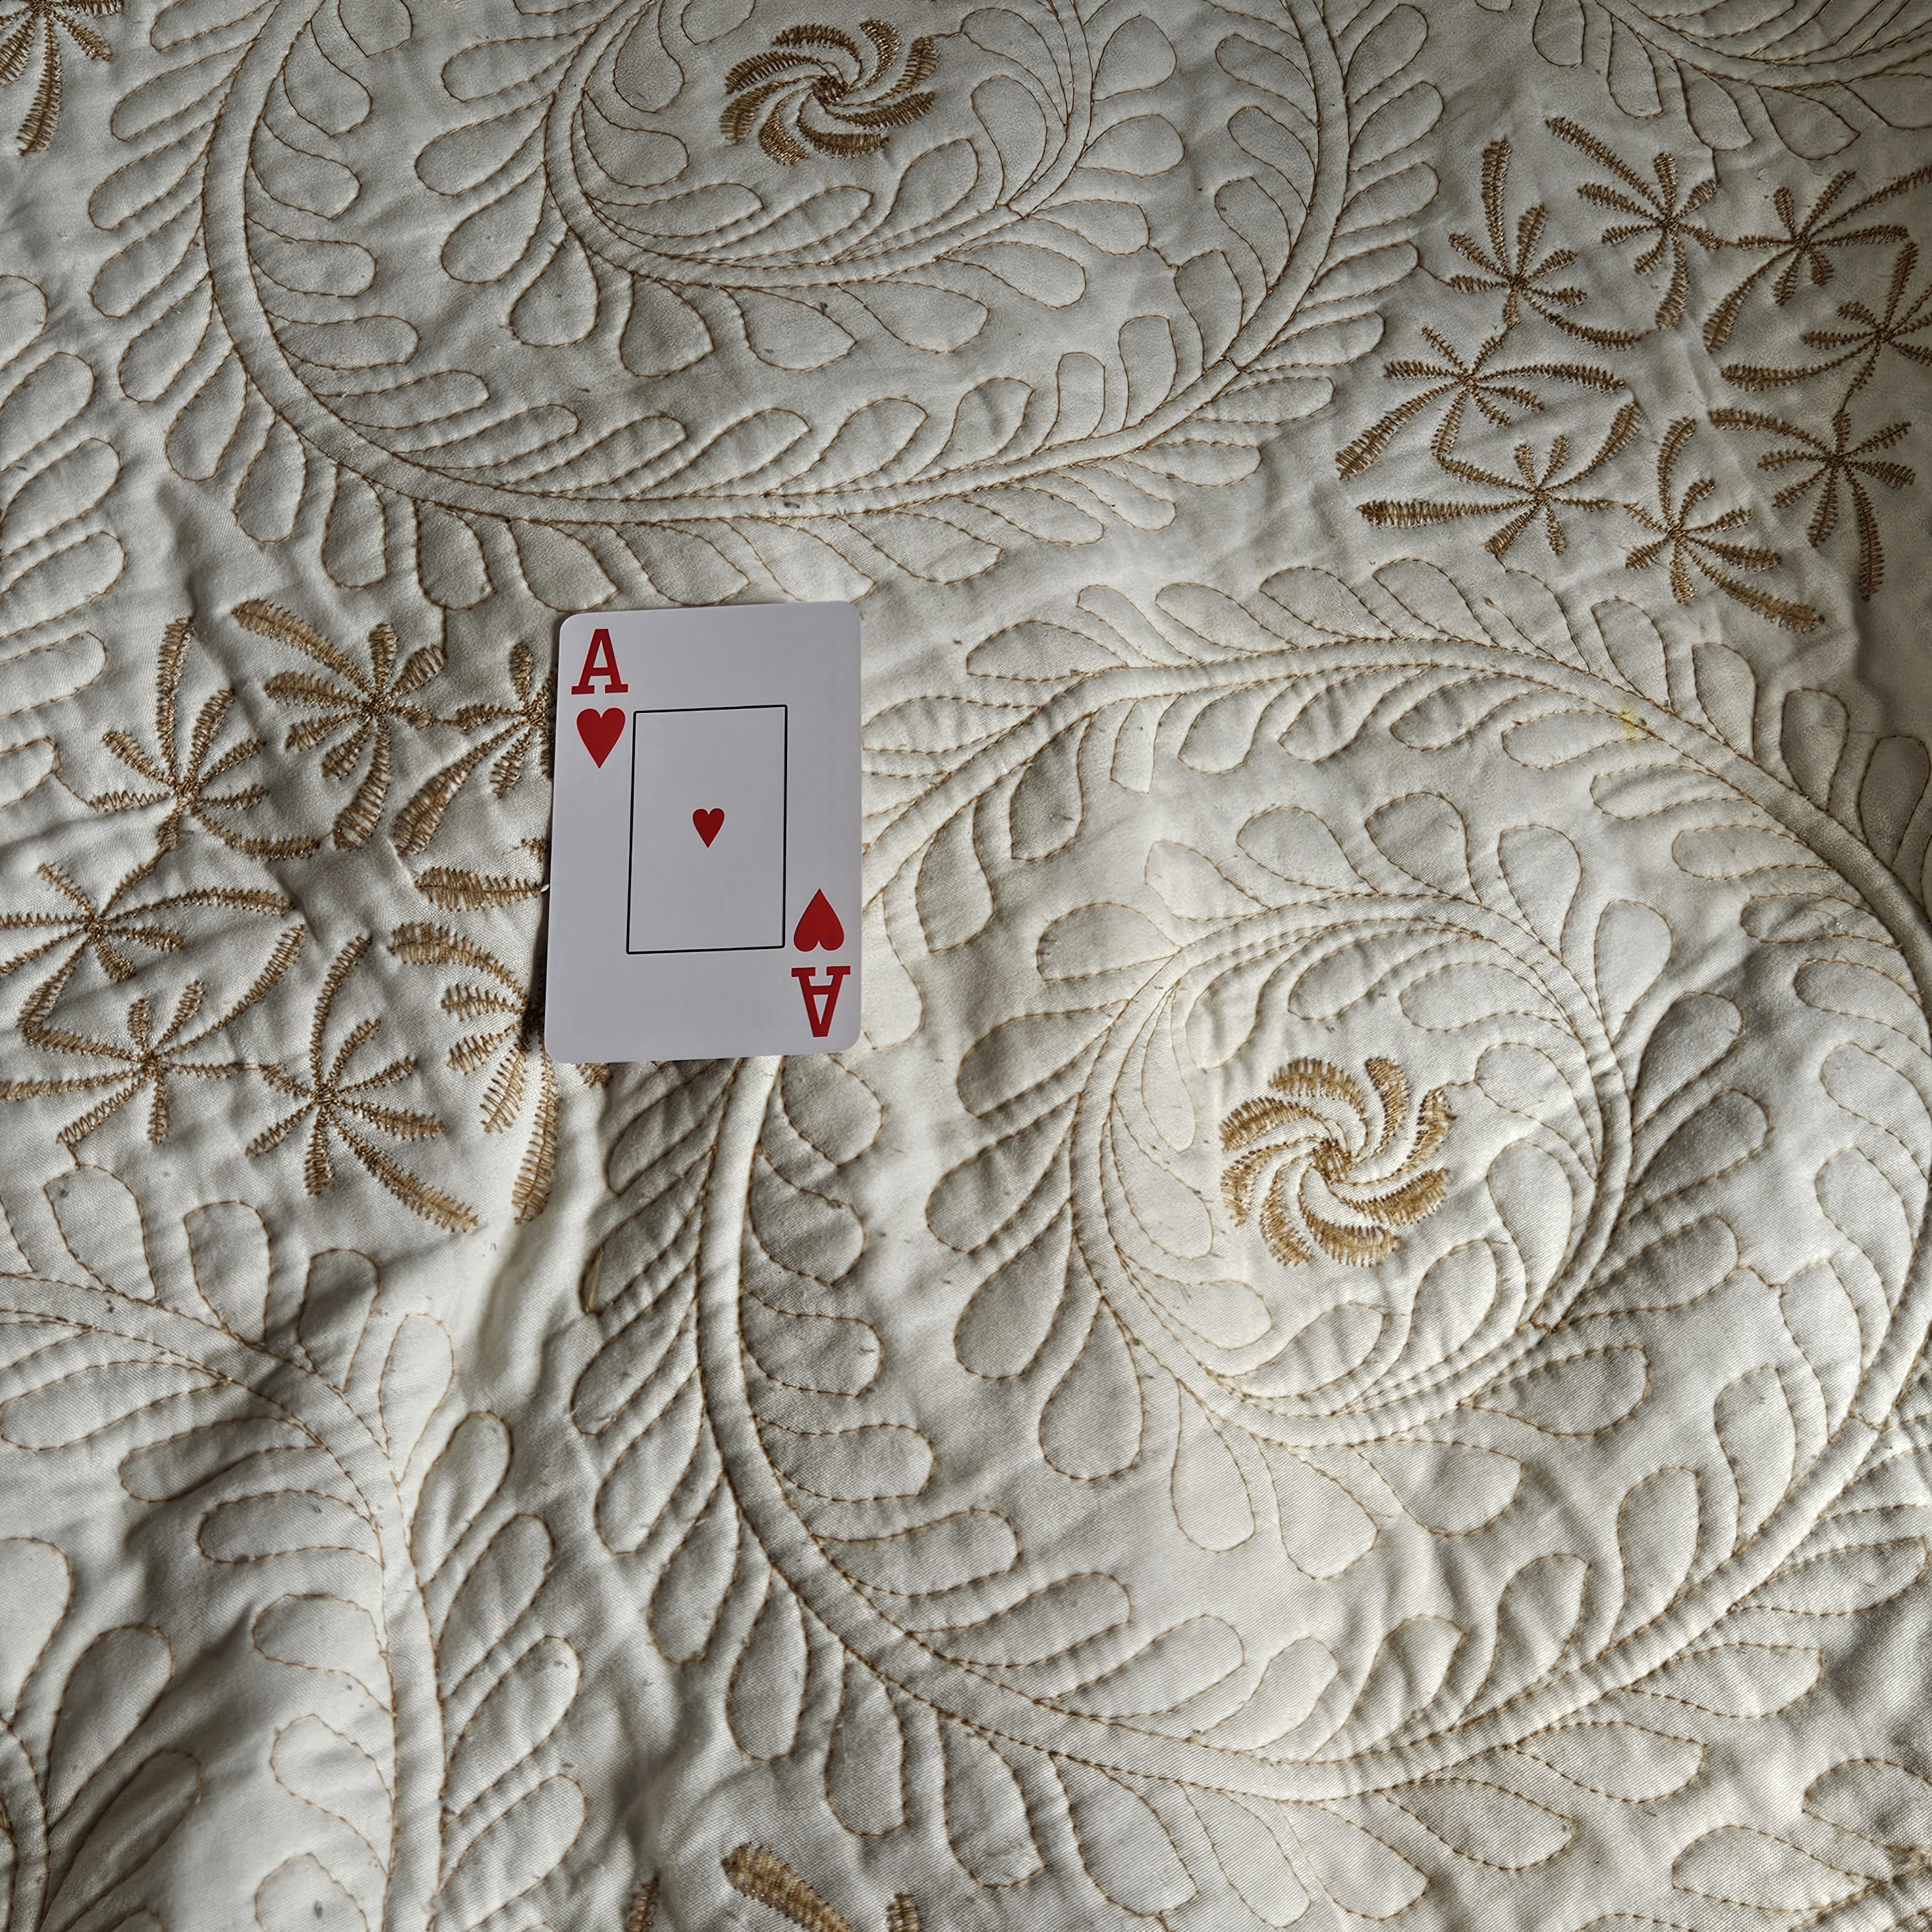AC: (782, 883, 860, 1049), (557, 614, 637, 775)
